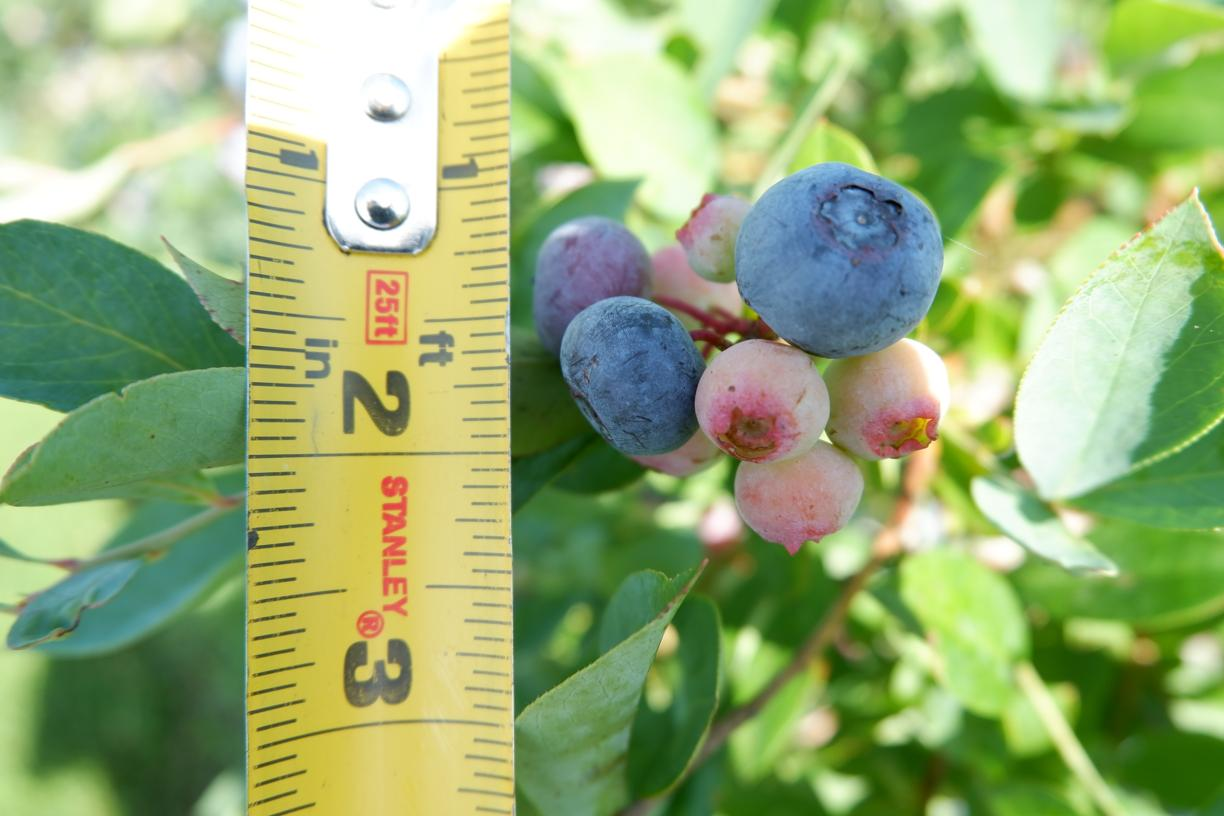Immature: (695, 338, 831, 464), (823, 337, 953, 462), (735, 439, 865, 556), (652, 247, 744, 365), (676, 192, 756, 283), (630, 426, 725, 477)
Mature: (734, 163, 946, 358), (559, 295, 708, 456), (533, 216, 657, 360)
